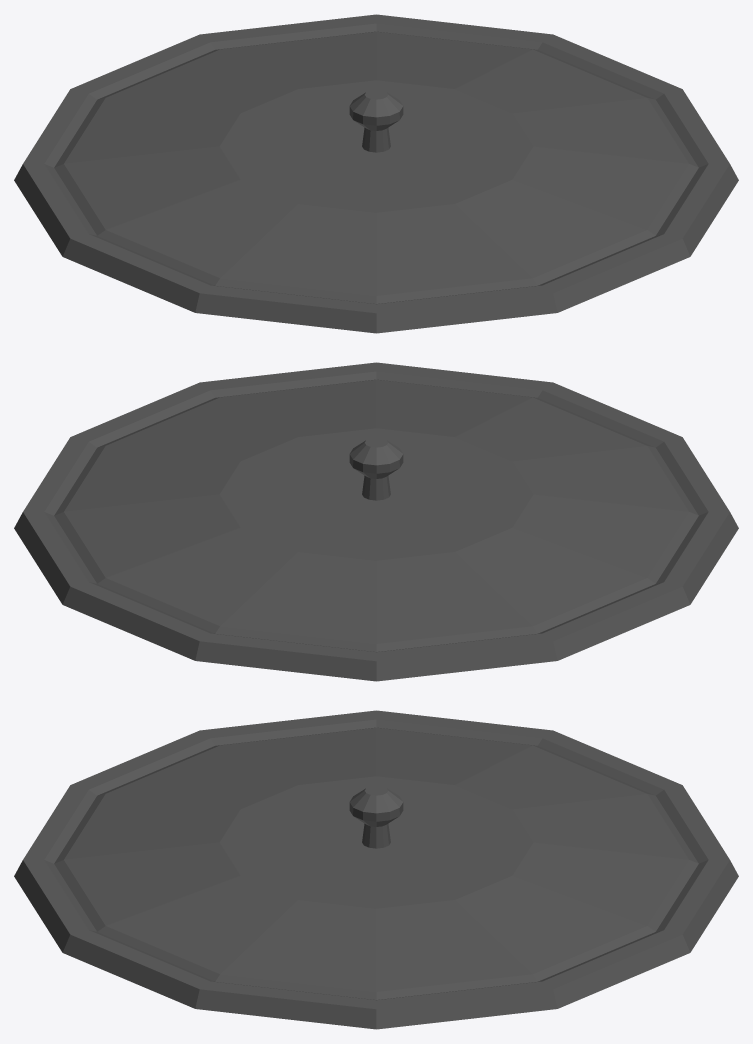
The model's file is PanPart_03_C2.fbx.
3 renders of one model, top to bottom at view 1: azimuth 30°, elevation 25°; view 2: azimuth 150°, elevation 25°; view 3: azimuth 270°, elevation 25°, orthographic.
Visible parts, largest first — view 1: PanPart_03_C2; view 2: PanPart_03_C2; view 3: PanPart_03_C2.
Boxes of the visible parts, bbox=[...] form: PanPart_03_C2: bbox=[14, 14, 738, 333]; PanPart_03_C2: bbox=[14, 362, 738, 681]; PanPart_03_C2: bbox=[14, 710, 738, 1029].
Bounding box in the file's own units: 27.92 × 3.64 × 27.92.
